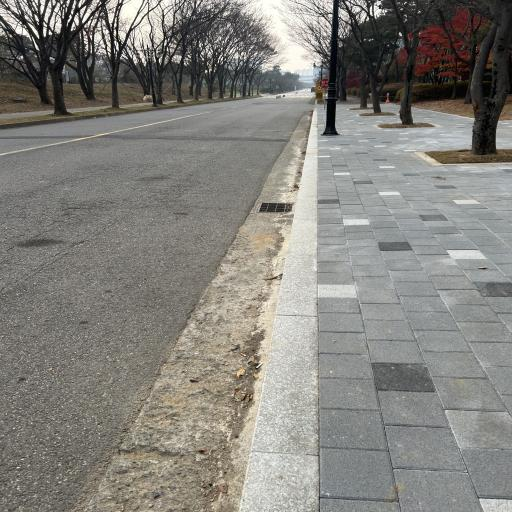drain: (257, 202, 293, 213)
